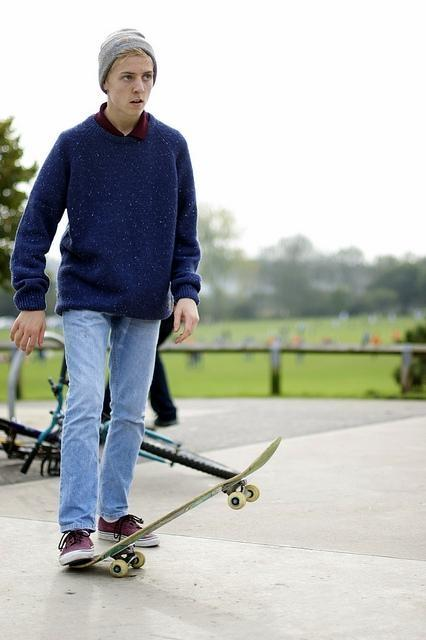bicycle: (4, 332, 236, 478), (3, 360, 66, 476)
